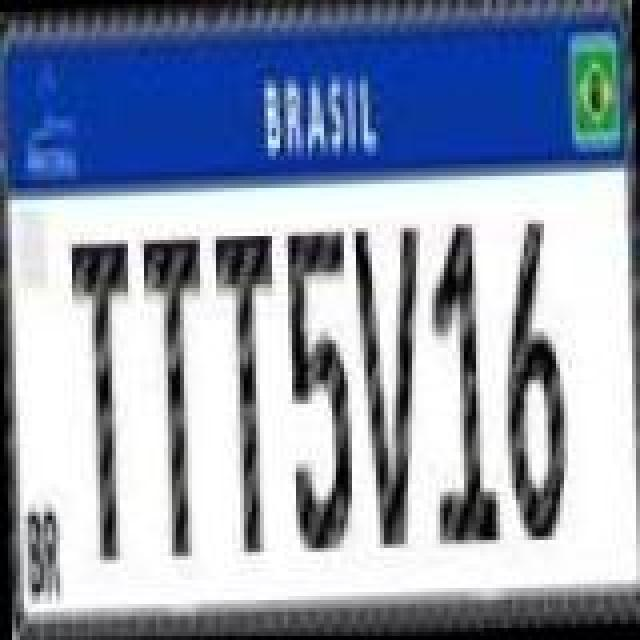1: (422, 218, 502, 546)
5: (282, 226, 354, 550)
6: (492, 208, 568, 548)
T: (208, 222, 284, 562), (66, 236, 138, 560), (138, 234, 210, 558)
V: (352, 218, 428, 546)
